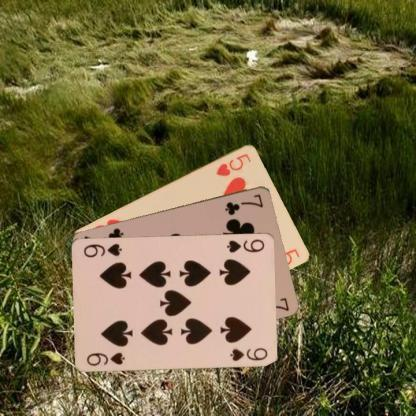5h: (213, 150, 253, 178)
7c: (222, 191, 264, 216)
9s: (84, 349, 126, 367), (225, 236, 266, 254)
